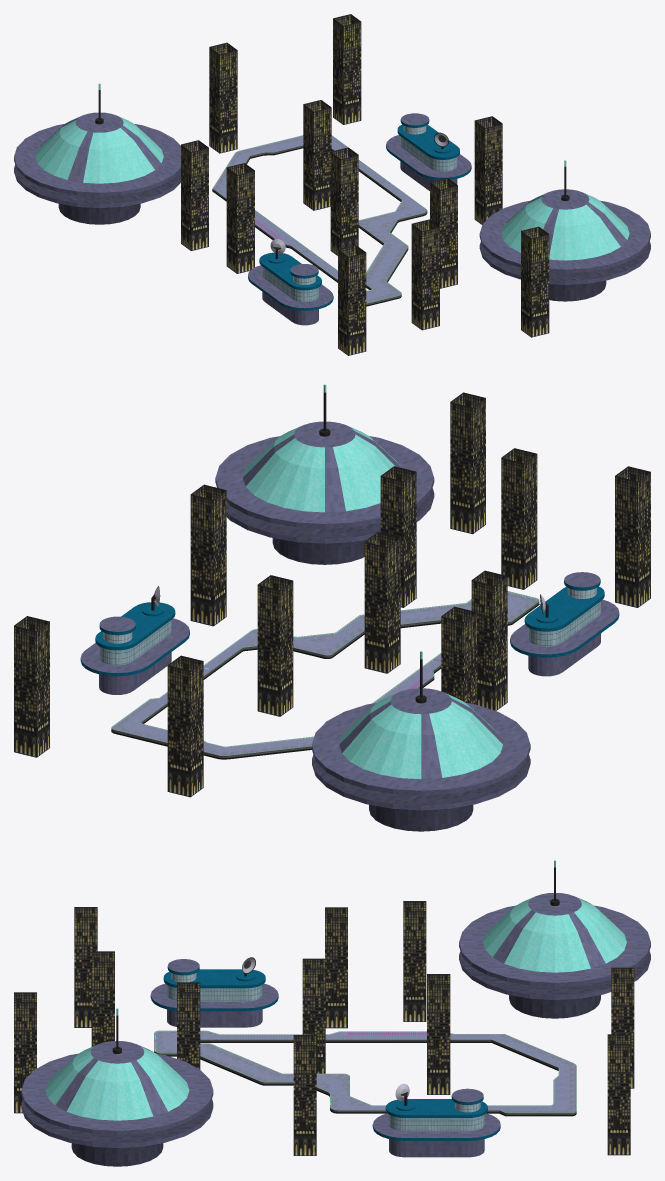
The picture shows the model from 3 angles, top to bottom: view 1: azimuth 30°, elevation 25°; view 2: azimuth 150°, elevation 25°; view 3: azimuth 270°, elevation 25°; orthographic projection. The views are drawn at different scales.
Visible parts, largest first — view 1: COURSE-SKP--1, COURSE-GRP-234856-auto4, COURSE-GRP-234856-auto5, COURSE-GRP-234856-auto3, COURSE-GRP-234856-auto1, COURSE-GRP-164997-auto17, COURSE-GRP-164997-auto18, COURSE-GRP-234856-auto2, COURSE-GRP-164997-auto16, COURSE-GRP-154007-auto15, COURSE-GRP-154007-auto20; view 2: COURSE-SKP--1, COURSE-GRP-234856-auto4, COURSE-GRP-234856-auto5, COURSE-GRP-234856-auto3, COURSE-GRP-234856-auto1, COURSE-GRP-234856-auto2, COURSE-GRP-164997-auto17, COURSE-GRP-164997-auto18, COURSE-GRP-154007-auto20, COURSE-GRP-164997-auto16, COURSE-GRP-154007-auto15; view 3: COURSE-SKP--1, COURSE-GRP-234856-auto4, COURSE-GRP-234856-auto5, COURSE-GRP-234856-auto3, COURSE-GRP-234856-auto1, COURSE-GRP-164997-auto17, COURSE-GRP-234856-auto2, COURSE-GRP-164997-auto18, COURSE-GRP-154007-auto20, COURSE-GRP-164997-auto16, COURSE-GRP-154007-auto15, COURSE-GRP-154007-auto11.
Part boxes in pixels (left/top/right/bottom): COURSE-SKP--1: left=181, top=14, right=549, bottom=355; COURSE-GRP-234856-auto4: left=14, top=112, right=650, bottom=325; COURSE-GRP-234856-auto5: left=35, top=83, right=629, bottom=260; COURSE-GRP-234856-auto3: left=14, top=164, right=650, bottom=301; COURSE-GRP-234856-auto1: left=248, top=120, right=471, bottom=310; COURSE-GRP-164997-auto17: left=216, top=140, right=422, bottom=299; COURSE-GRP-164997-auto18: left=213, top=136, right=425, bottom=302; COURSE-GRP-234856-auto2: left=262, top=126, right=457, bottom=301; COURSE-GRP-164997-auto16: left=222, top=138, right=416, bottom=278; COURSE-GRP-154007-auto15: left=212, top=135, right=426, bottom=303; COURSE-GRP-154007-auto20: left=212, top=145, right=427, bottom=306; COURSE-SKP--1: left=14, top=392, right=650, bottom=797; COURSE-GRP-234856-auto4: left=80, top=421, right=619, bottom=810; COURSE-GRP-234856-auto5: left=243, top=384, right=502, bottom=779; COURSE-GRP-234856-auto3: left=226, top=488, right=530, bottom=831; COURSE-GRP-234856-auto1: left=80, top=580, right=619, bottom=676; COURSE-GRP-234856-auto2: left=99, top=588, right=600, bottom=665; COURSE-GRP-164997-auto17: left=123, top=596, right=527, bottom=752; COURSE-GRP-164997-auto18: left=112, top=592, right=537, bottom=755; COURSE-GRP-154007-auto20: left=111, top=601, right=539, bottom=759; COURSE-GRP-164997-auto16: left=136, top=622, right=441, bottom=750; COURSE-GRP-154007-auto15: left=111, top=591, right=539, bottom=755; COURSE-SKP--1: left=14, top=901, right=634, bottom=1155; COURSE-GRP-234856-auto4: left=21, top=893, right=650, bottom=1157; COURSE-GRP-234856-auto5: left=45, top=860, right=626, bottom=1120; COURSE-GRP-234856-auto3: left=21, top=951, right=650, bottom=1166; COURSE-GRP-234856-auto1: left=150, top=966, right=500, bottom=1140; COURSE-GRP-164997-auto17: left=162, top=1032, right=569, bottom=1110; COURSE-GRP-234856-auto2: left=167, top=973, right=484, bottom=1131; COURSE-GRP-164997-auto18: left=156, top=1031, right=575, bottom=1112; COURSE-GRP-154007-auto20: left=154, top=1040, right=576, bottom=1116; COURSE-GRP-164997-auto16: left=219, top=1035, right=569, bottom=1110; COURSE-GRP-154007-auto15: left=154, top=1030, right=576, bottom=1112; COURSE-GRP-154007-auto11: left=154, top=1039, right=576, bottom=1113.
Size of what is drawn, in the model's own units: 169475 by 47801 by 199073.
Materials: 19 (19 with a texture image).
